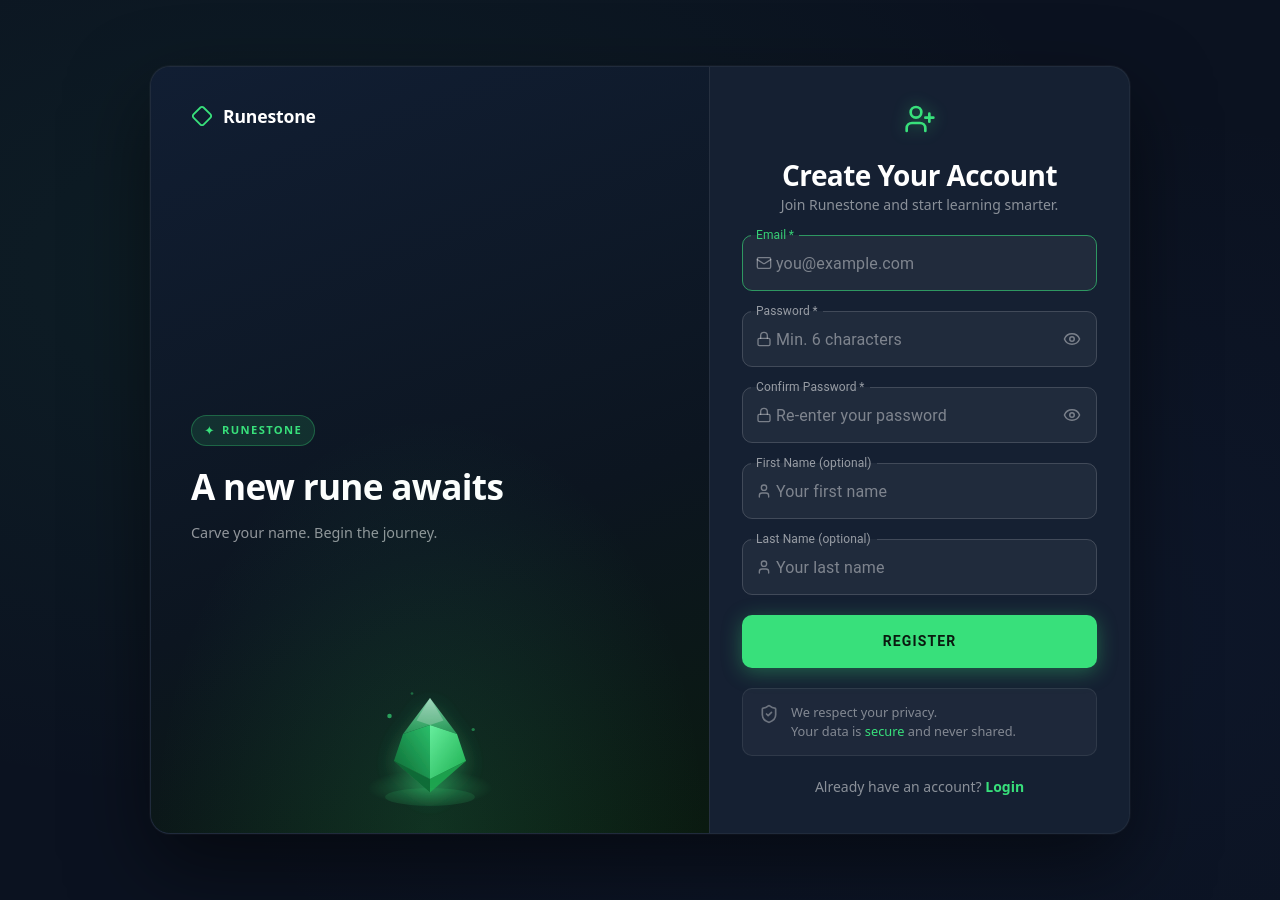
Register Component › Error Handling › should display error message when registration fails
This screenshot has width=1280, height=900.
Type "test@example.com" into the field labelled "Email *" at (936, 263), box [776,235,1097,291]
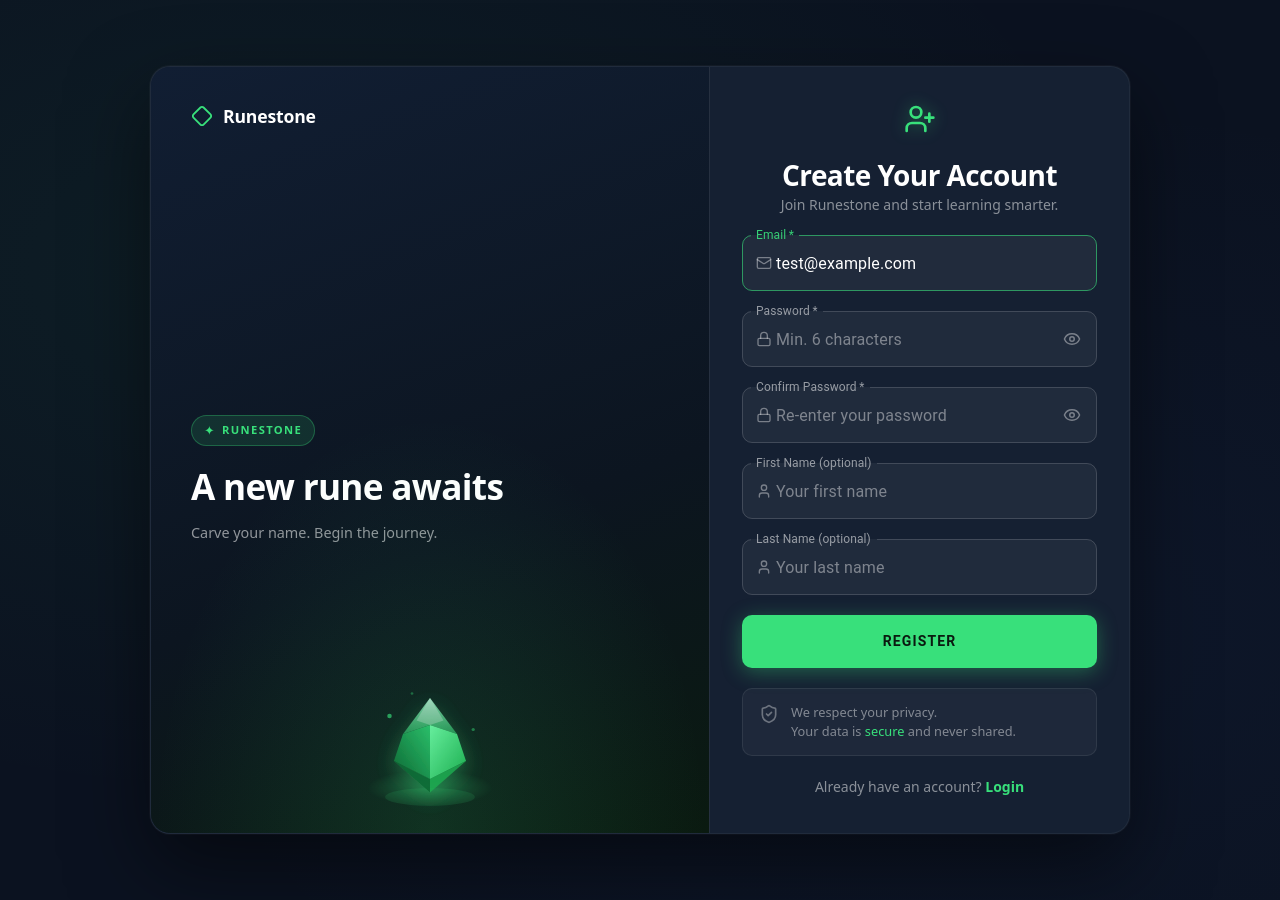
Type "password123" into the password field labelled "Password *" at (913, 339), box [776,311,1050,367]
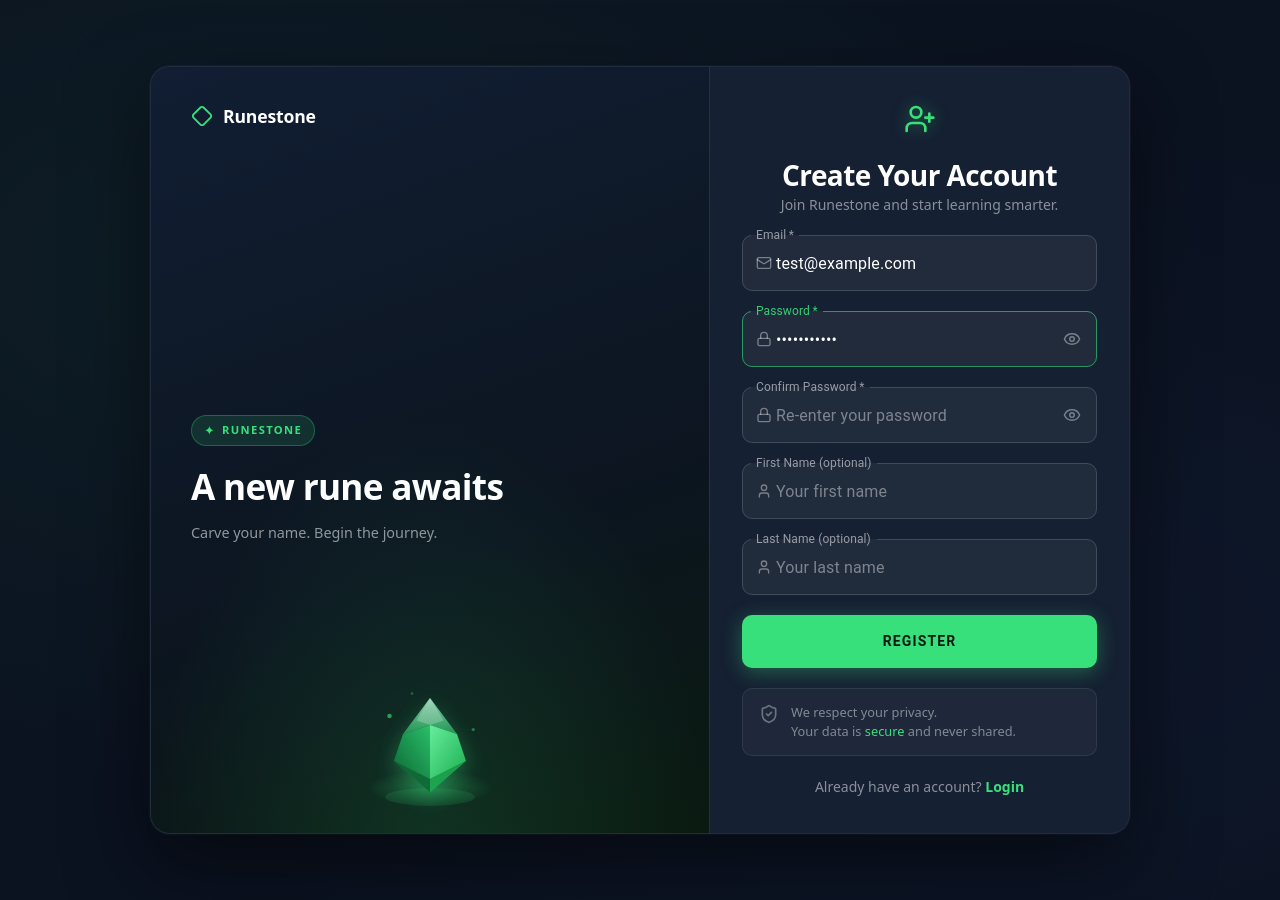
Type "password123" into the password field labelled "Confirm Password *" at (913, 415), box [776,387,1050,443]
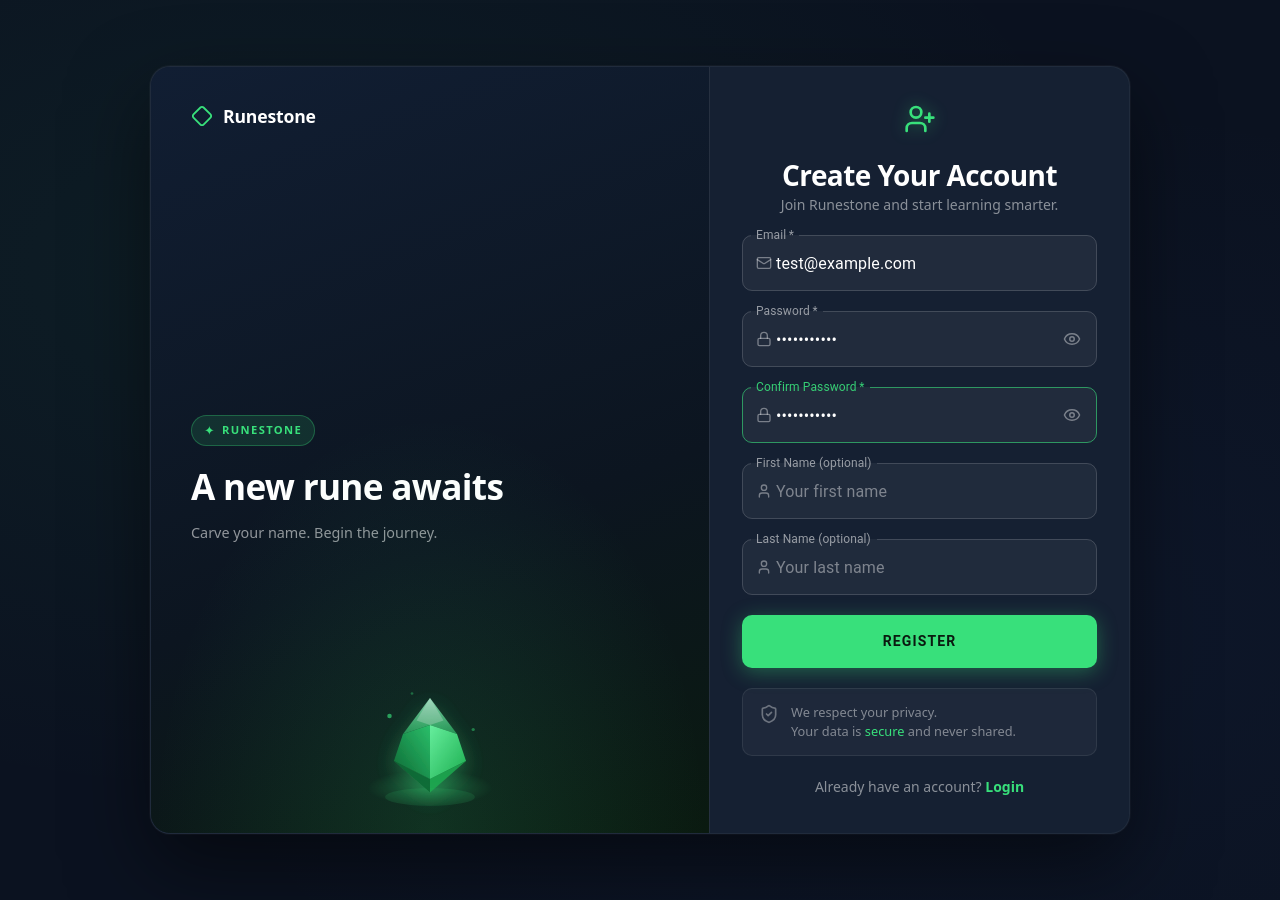
Click the button "Register" at (920, 642), box [742,615,1097,668]
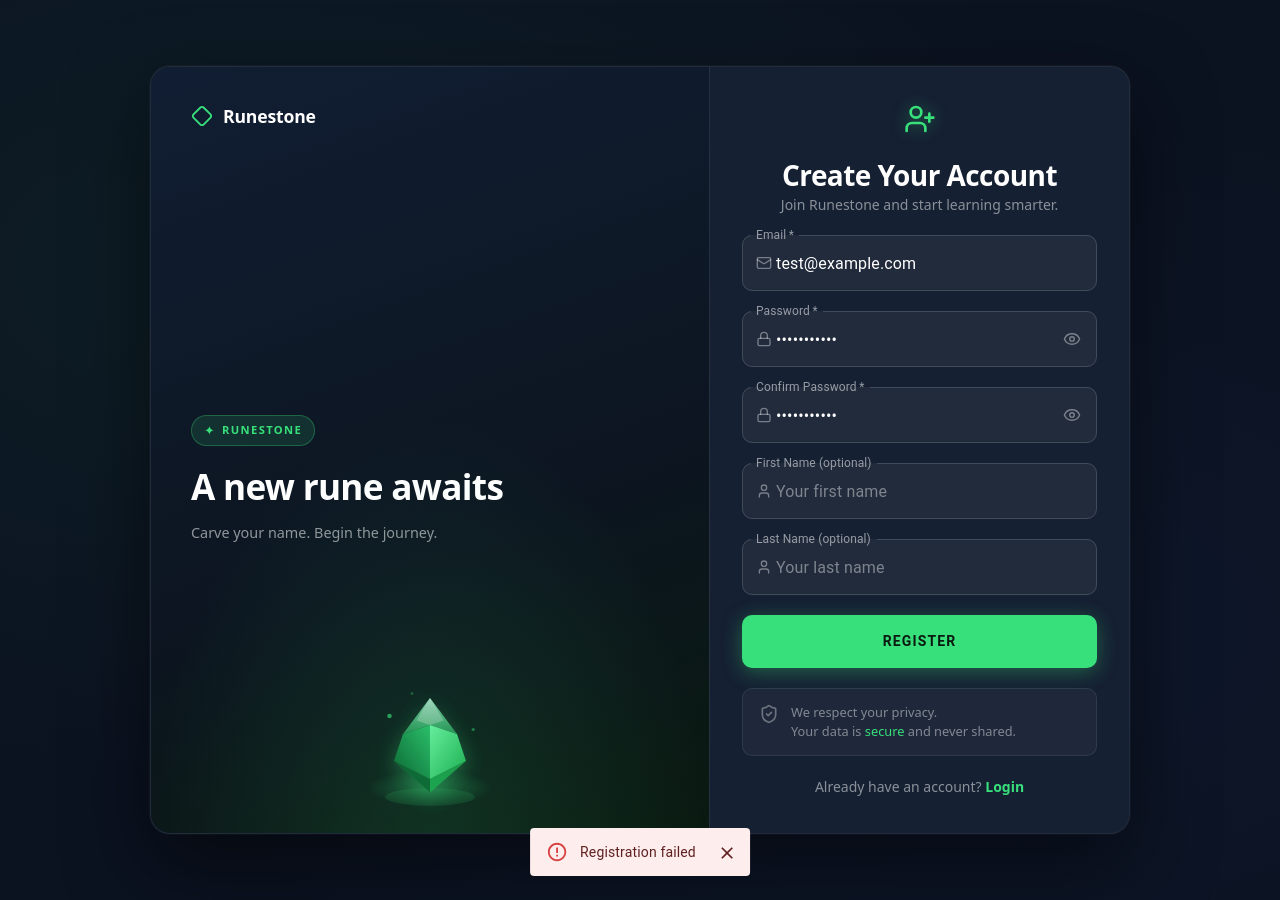
expect the text "Registration failed" is shown: met, box [580,844,696,860]
